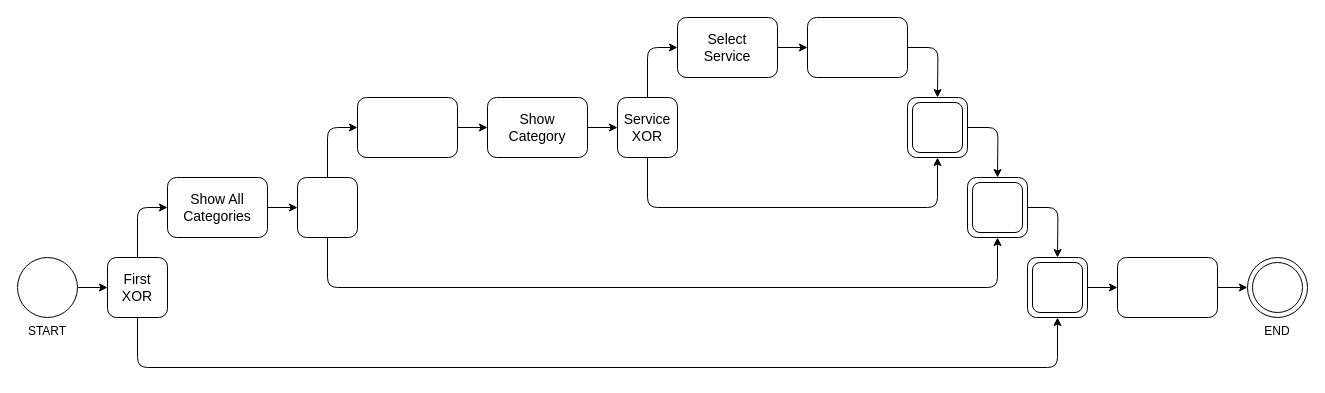
Image size: 1325x393. Some labels were removed from this diagram. The shapes that lost their labels are listed below. From the top down, each one's box as (x1, y1, x2, y2) in pixels, then its label:
(806, 16, 908, 78): Show Service
(356, 96, 458, 158): Select Category
(296, 176, 358, 238): Categ. XOR
(1116, 256, 1218, 318): Show Email Form
